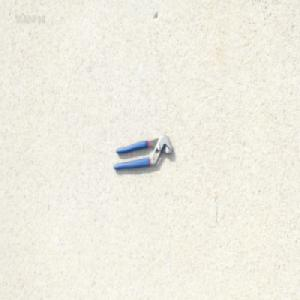Pliers: (112, 133, 173, 171)
